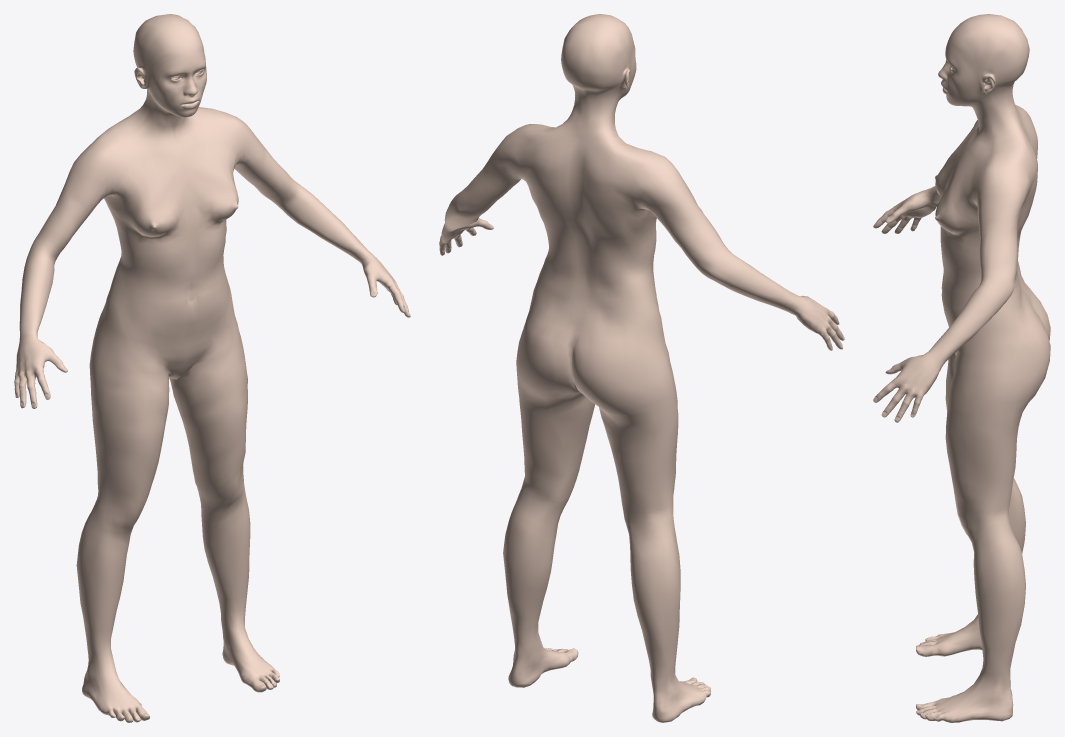
Rendered from female.glb.
The picture shows the model from 3 angles, left to right: view 1: azimuth 30°, elevation 25°; view 2: azimuth 150°, elevation 25°; view 3: azimuth 270°, elevation 25°; orthographic projection. The views are drawn at different scales.
Visible parts, largest first — view 1: body; view 2: body; view 3: body.
Part boxes in pixels (x1,y1,x2,y2): body: [14, 14, 410, 722]; body: [439, 14, 844, 722]; body: [873, 14, 1050, 722].
Size of the model in its own units: 1.25 by 2.05 by 0.4944.
